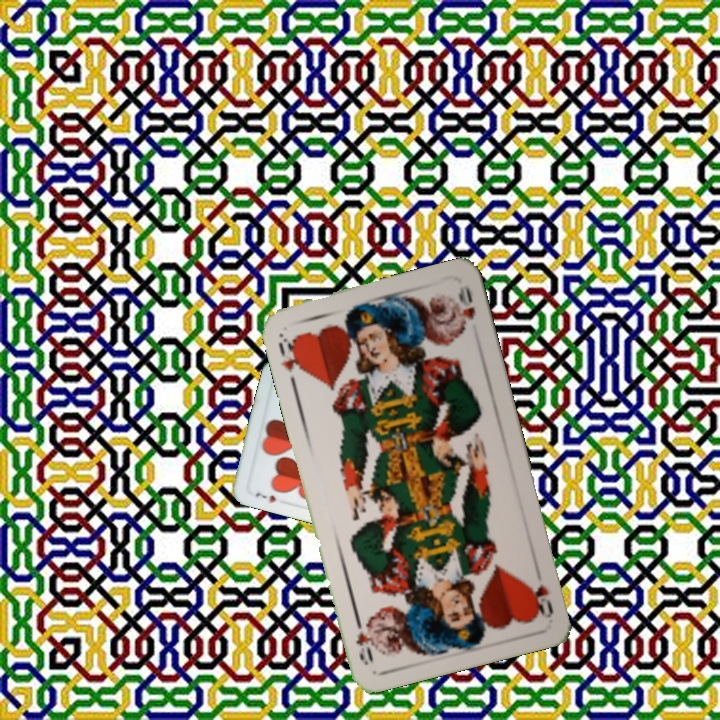H7: (251, 488, 279, 505)
HO: (525, 563, 556, 621), (274, 329, 306, 375)
